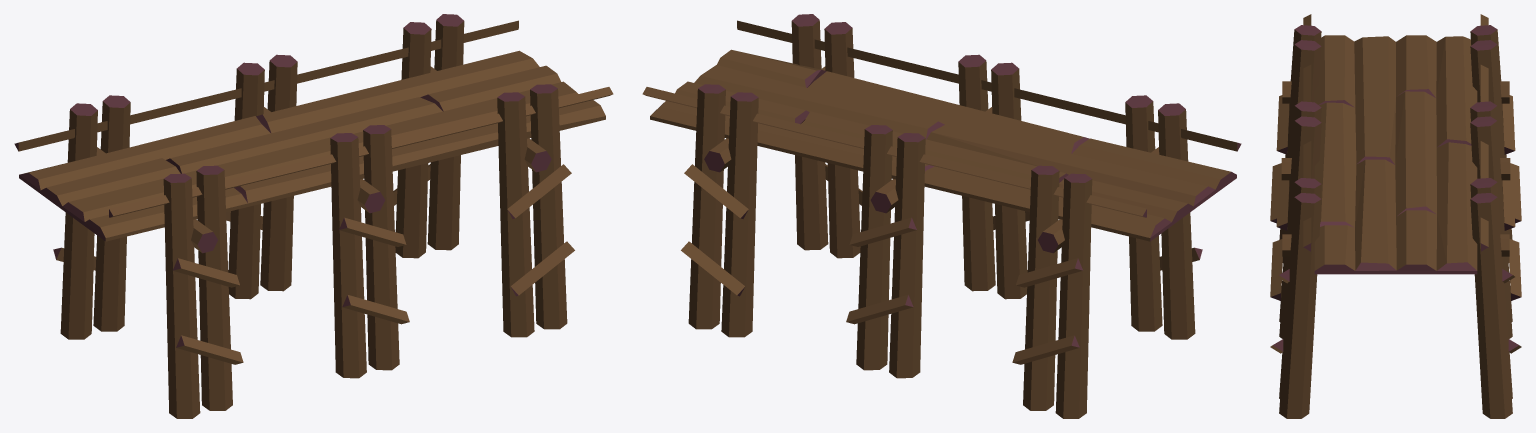
Rendered from SM_Bridge_Tribal_Tier1.fbx.
3 views of the same model, side by side, from view 1: azimuth 30°, elevation 25°; view 2: azimuth 150°, elevation 25°; view 3: azimuth 270°, elevation 25° (orthographic). The views are drawn at different scales.
Parts seen in each view (by area): view 1: SM_Bridge_Tribal_Tier1; view 2: SM_Bridge_Tribal_Tier1; view 3: SM_Bridge_Tribal_Tier1.
Part boxes in pixels (bbox=[...]): SM_Bridge_Tribal_Tier1: bbox=[14, 14, 613, 418]; SM_Bridge_Tribal_Tier1: bbox=[642, 14, 1241, 418]; SM_Bridge_Tribal_Tier1: bbox=[1270, 14, 1521, 418].
Size of the model in its own units: 10.03 by 4.4 by 4.65.
